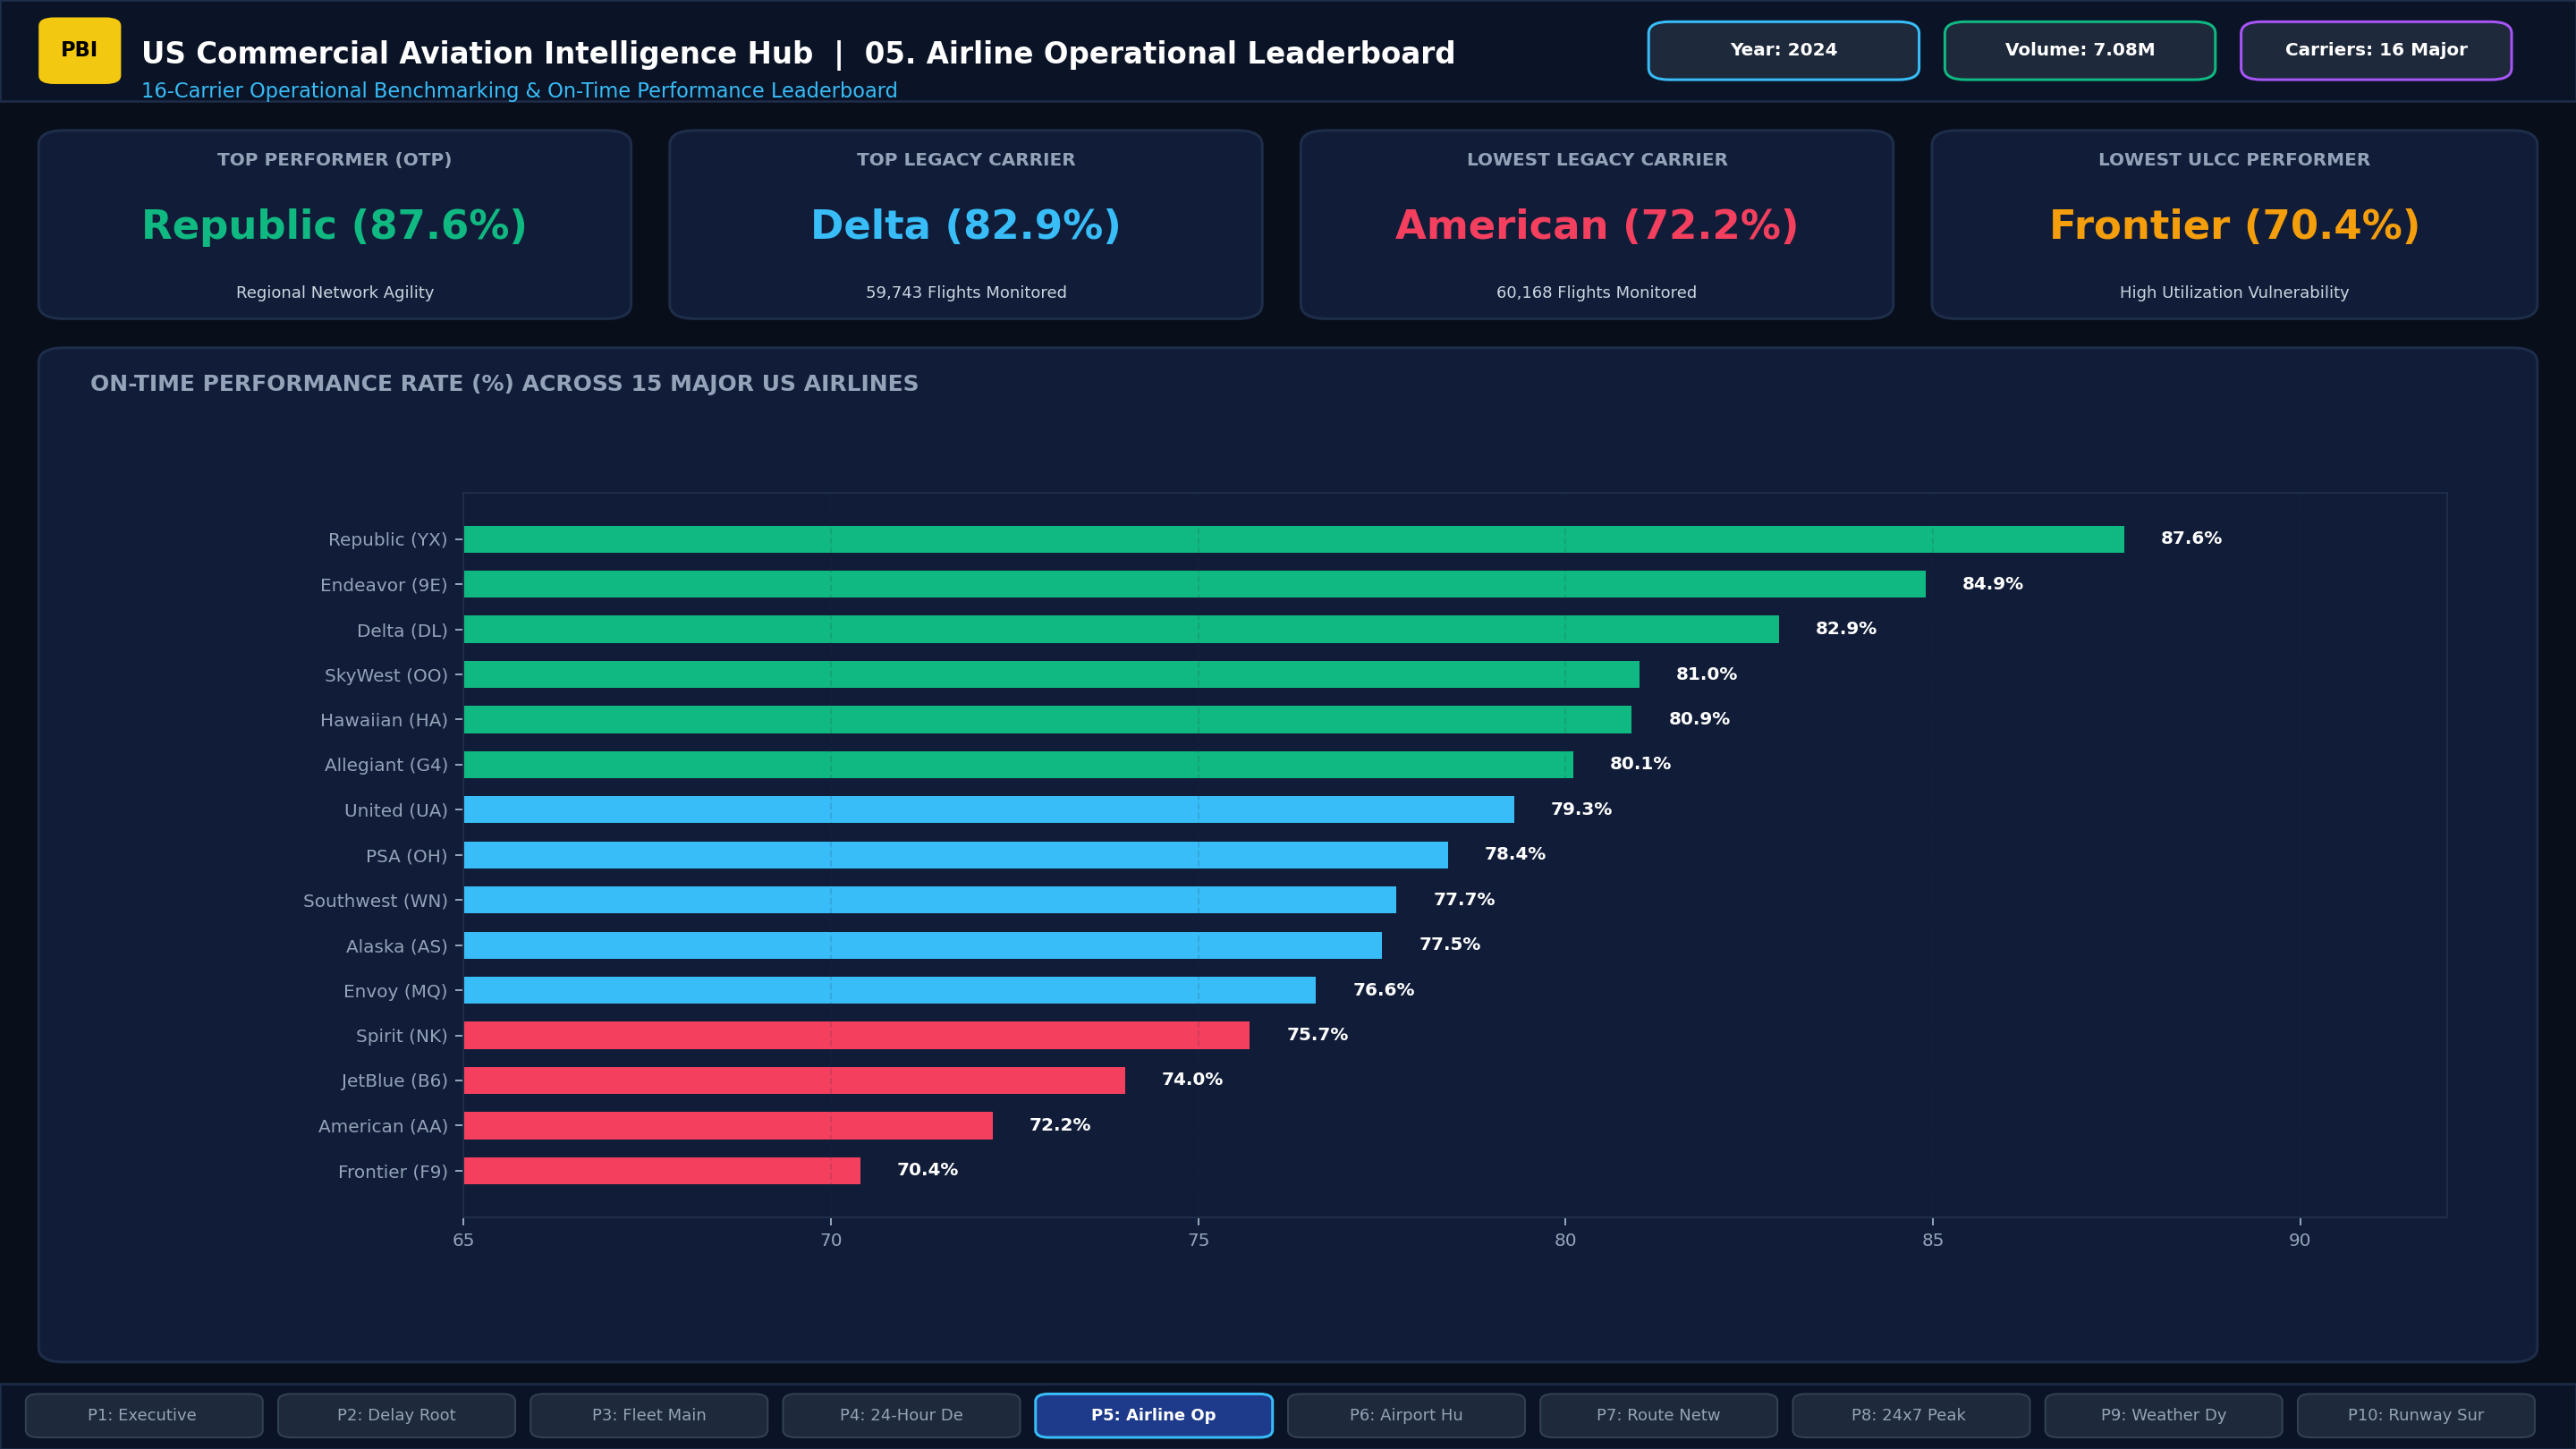

The dashboard page shown, as its layout file describes it:
{"tool":"powerbi","page":{"name":"5. Airline Carrier Benchmarking","canvas":[1920,1080],"ordinal":4},"visuals":[{"type":"cardVisual","fields":{"Data":["dim_airlines.Total Flights"]},"box":[40,40,440,130],"z":1},{"type":"cardVisual","fields":{"Data":["dim_airlines.On-Time Performance %"]},"box":[506,40,440,130],"z":2},{"type":"cardVisual","fields":{"Data":["dim_airlines.Cancellation Rate %"]},"box":[972,40,440,130],"z":3},{"type":"cardVisual","fields":{"Data":["dim_airlines.Avg Taxi-Out (min)"]},"box":[1438,40,440,130],"z":4},{"type":"tableEx","title":"16 Major Carrier Executive Leaderboard","fields":{"Values":["dim_airlines.CarrierCode","dim_airlines.AirlineName","dim_airlines.Total Flights","dim_airlines.On-Time Performance %","dim_airlines.Delay Rate %","dim_airlines.Cancellation Rate %","dim_airlines.Avg Taxi-Out (min)"]},"box":[40,200,940,480],"z":5},{"type":"clusteredBarChart","title":"OTP % Benchmarking Leaderboard","fields":{"Category":["dim_airlines.AirlineName"],"Y":["dim_airlines.On-Time Performance %"]},"box":[1000,200,880,480],"z":6},{"type":"clusteredColumnChart","title":"Carrier Cancellation Rate % Benchmark","fields":{"Category":["dim_airlines.CarrierCode"],"Y":["dim_airlines.Cancellation Rate %"]},"box":[40,700,940,340],"z":7},{"type":"clusteredBarChart","title":"Average Runway Taxi-Out Duration (Minutes)","fields":{"Category":["dim_airlines.AirlineName"],"Y":["dim_airlines.Avg Taxi-Out (min)"]},"box":[1000,700,880,340],"z":8}]}

Visuals, with their boxes on the page's 1920x1080 design canvas (x1, y1, x2, y2). These are canvas units, not pixel positions in the 2576x1449 screenshot, which may show the page scaled, cropped or inside an application window:
cardVisual - dim_airlines.Total Flights: {"left": 40, "top": 40, "right": 480, "bottom": 170}
cardVisual - dim_airlines.On-Time Performance %: {"left": 506, "top": 40, "right": 946, "bottom": 170}
cardVisual - dim_airlines.Cancellation Rate %: {"left": 972, "top": 40, "right": 1412, "bottom": 170}
cardVisual - dim_airlines.Avg Taxi-Out (min): {"left": 1438, "top": 40, "right": 1878, "bottom": 170}
"16 Major Carrier Executive Leaderboard" tableEx: {"left": 40, "top": 200, "right": 980, "bottom": 680}
"OTP % Benchmarking Leaderboard" clusteredBarChart: {"left": 1000, "top": 200, "right": 1880, "bottom": 680}
"Carrier Cancellation Rate % Benchmark" clusteredColumnChart: {"left": 40, "top": 700, "right": 980, "bottom": 1040}
"Average Runway Taxi-Out Duration (Minutes)" clusteredBarChart: {"left": 1000, "top": 700, "right": 1880, "bottom": 1040}
